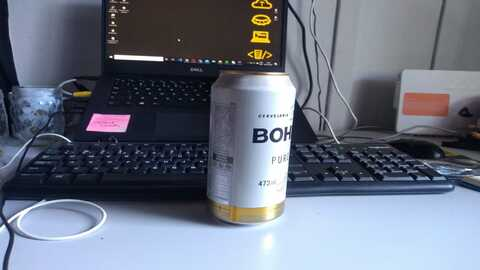bohemia: (203, 67, 297, 233)
